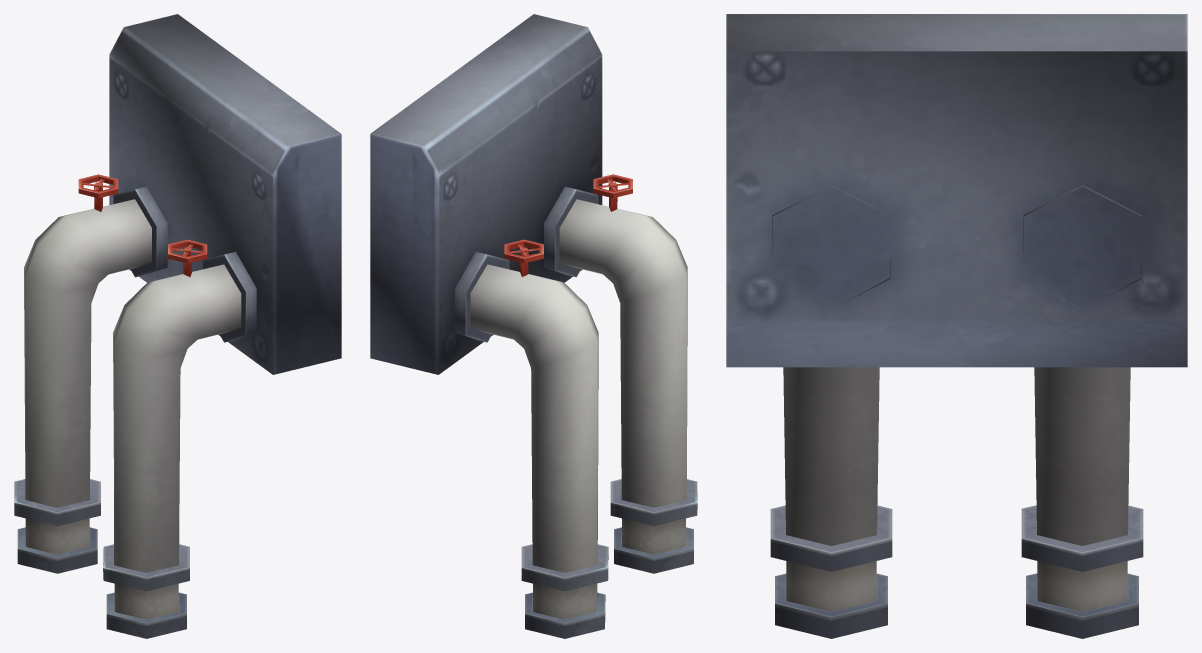
Rendered from sc_dungeon_duobiwanfa_guanzi_001.FBX.
3 views of the same model, side by side, from view 1: azimuth 30°, elevation 25°; view 2: azimuth 150°, elevation 25°; view 3: azimuth 270°, elevation 25° (orthographic). The views are drawn at different scales.
Parts seen in each view (by area): view 1: sc_dungeon_duobiwanfa_guanzi_001; view 2: sc_dungeon_duobiwanfa_guanzi_001; view 3: sc_dungeon_duobiwanfa_guanzi_001.
Boxes of the visible parts, x1,y1,x2,y2 form: sc_dungeon_duobiwanfa_guanzi_001: (14, 14, 341, 638); sc_dungeon_duobiwanfa_guanzi_001: (370, 14, 697, 638); sc_dungeon_duobiwanfa_guanzi_001: (726, 14, 1187, 638).
Bounding box in the file's own units: 1.61 × 3.64 × 2.27.
Materials: 1 (1 with a texture image).
